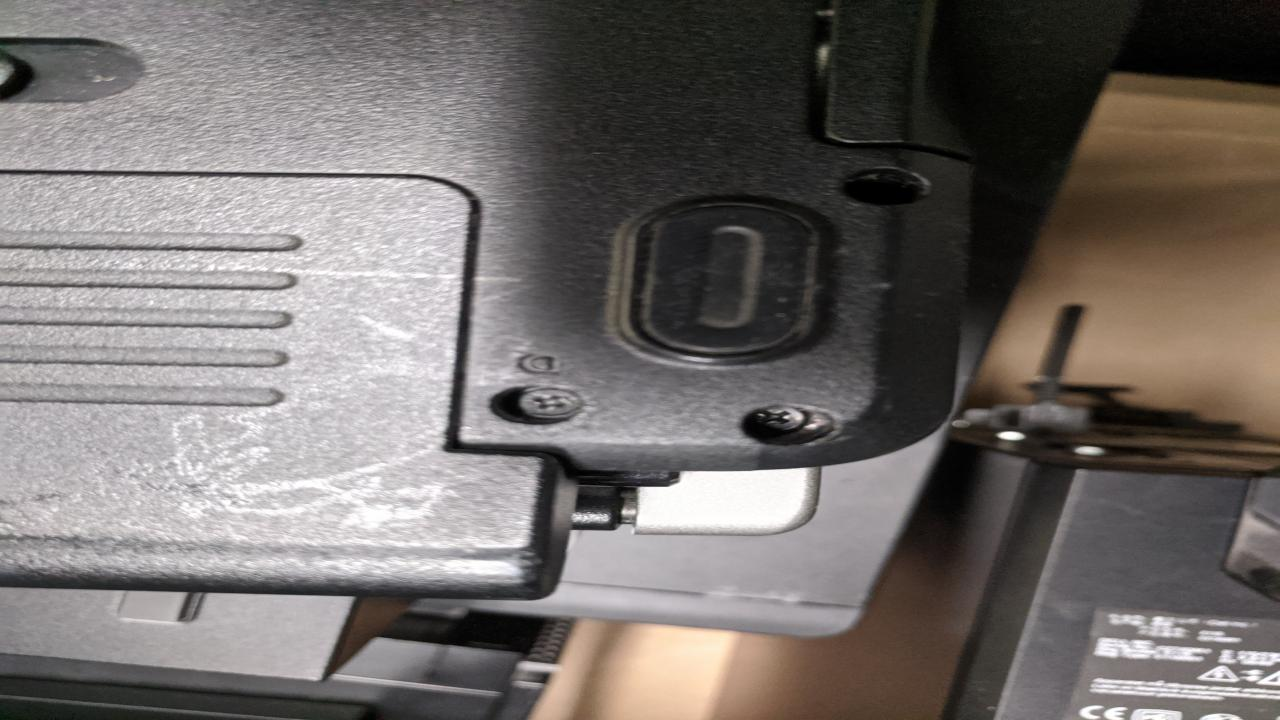CRS: (515, 387, 591, 421), (743, 403, 814, 436)
